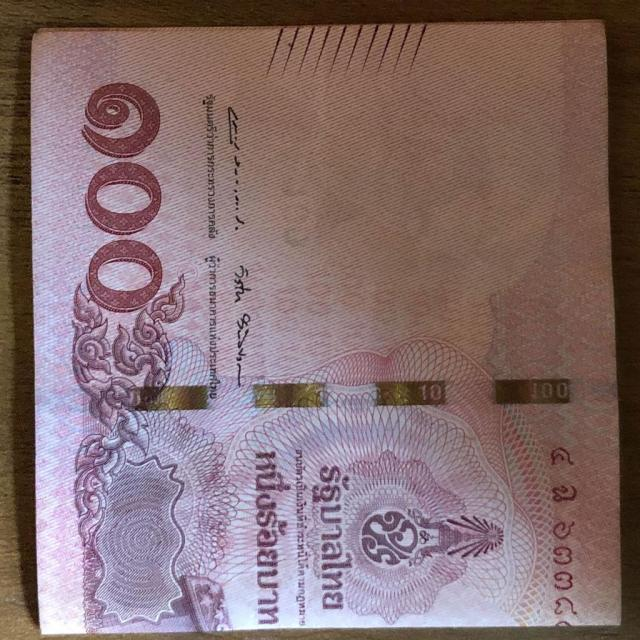THAI100: (31, 22, 619, 633)
